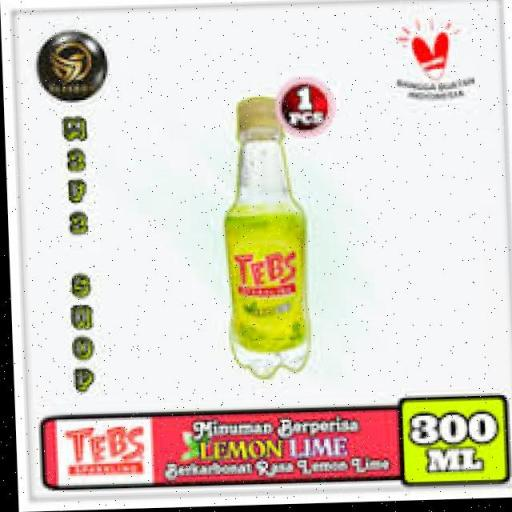plastic: (220, 99, 311, 384)
